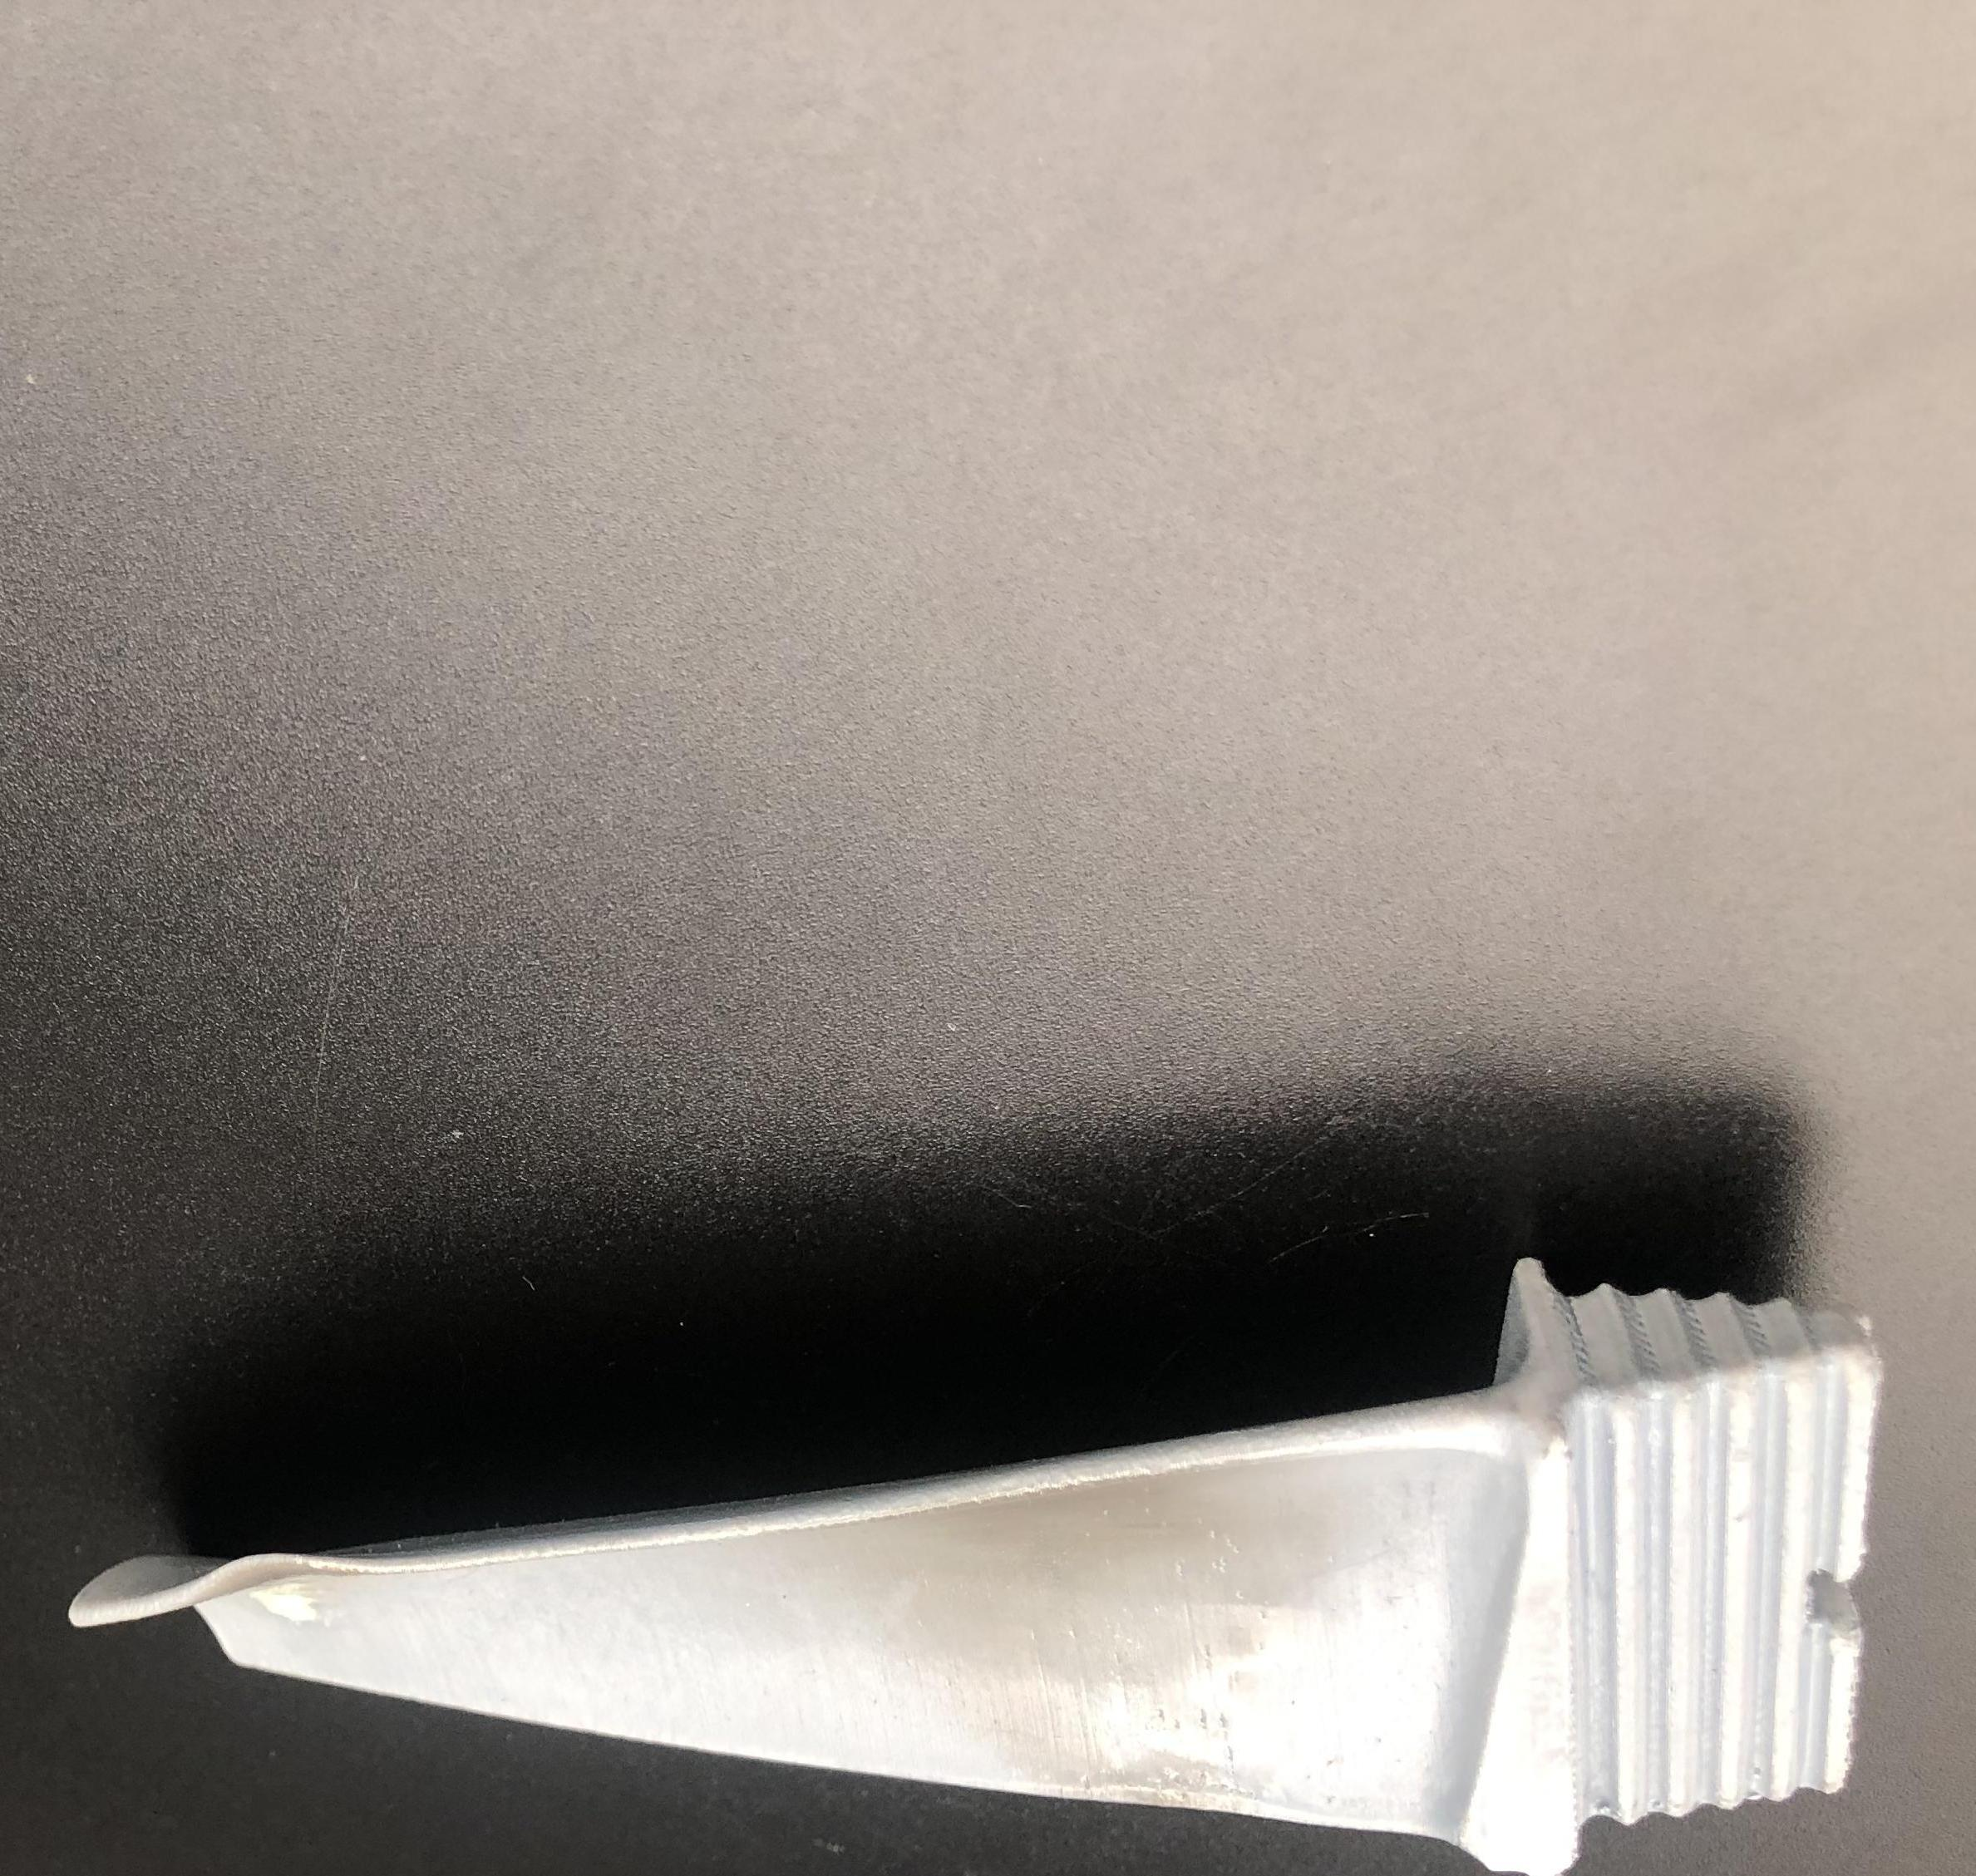ablation: (885, 1493, 1380, 1619), (210, 1560, 363, 1638)
